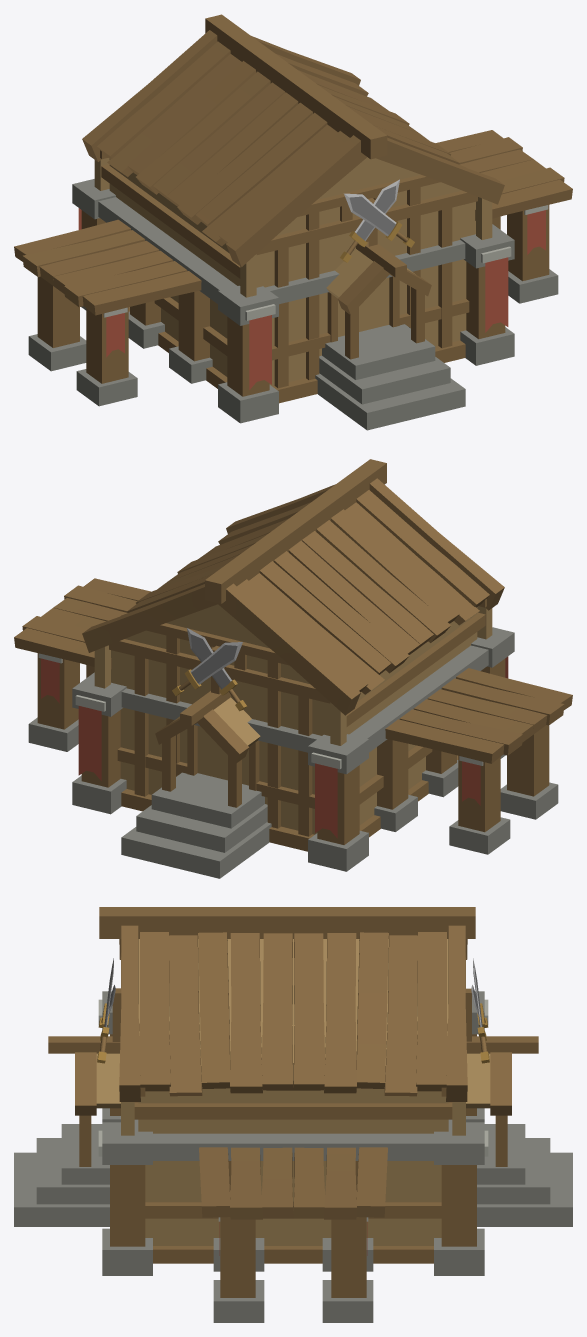
Rendered from Barracks.fbx.
3 renders of one model, top to bottom at view 1: azimuth 30°, elevation 25°; view 2: azimuth 150°, elevation 25°; view 3: azimuth 270°, elevation 25°, orthographic. The views are drawn at different scales.
Visible parts, largest first — view 1: 7, 6, 8, 3, 2, 4, 0, 9, 5, 10, 1; view 2: 7, 6, 8, 3, 2, 4, 0, 9, 5, 10, 1; view 3: 7, 6, 8, 3, 2, 0, 5, 4, 1, 10, 9.
Part boxes in pixels (<box>): 7: <box>14,41,572,315</box>; 6: <box>82,14,504,314</box>; 8: <box>109,157,475,386</box>; 3: <box>72,179,514,430</box>; 2: <box>37,205,549,396</box>; 4: <box>154,187,469,388</box>; 0: <box>28,269,558,423</box>; 9: <box>78,205,548,389</box>; 5: <box>98,197,465,304</box>; 10: <box>340,179,414,262</box>; 1: <box>128,307,465,403</box>; 7: <box>14,490,572,763</box>; 6: <box>82,459,504,763</box>; 8: <box>111,604,477,834</box>; 3: <box>72,627,514,878</box>; 2: <box>37,653,549,844</box>; 4: <box>117,635,432,836</box>; 0: <box>28,717,558,871</box>; 9: <box>38,653,508,838</box>; 5: <box>121,645,488,752</box>; 10: <box>172,628,246,711</box>; 1: <box>121,755,458,851</box>; 7: <box>139,932,447,1219</box>; 6: <box>48,907,538,1135</box>; 8: <box>138,939,448,1245</box>; 3: <box>14,991,572,1226</box>; 2: <box>110,1034,476,1297</box>; 0: <box>102,1108,484,1322</box>; 5: <box>134,1119,452,1160</box>; 4: <box>79,1102,507,1218</box>; 1: <box>153,1246,433,1263</box>; 10: <box>97,958,489,1063</box>; 9: <box>98,999,488,1255</box>.
Size of the model in its own units: 179 by 89.24 by 157.
